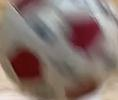Sports-Ball: (2, 4, 110, 90)
